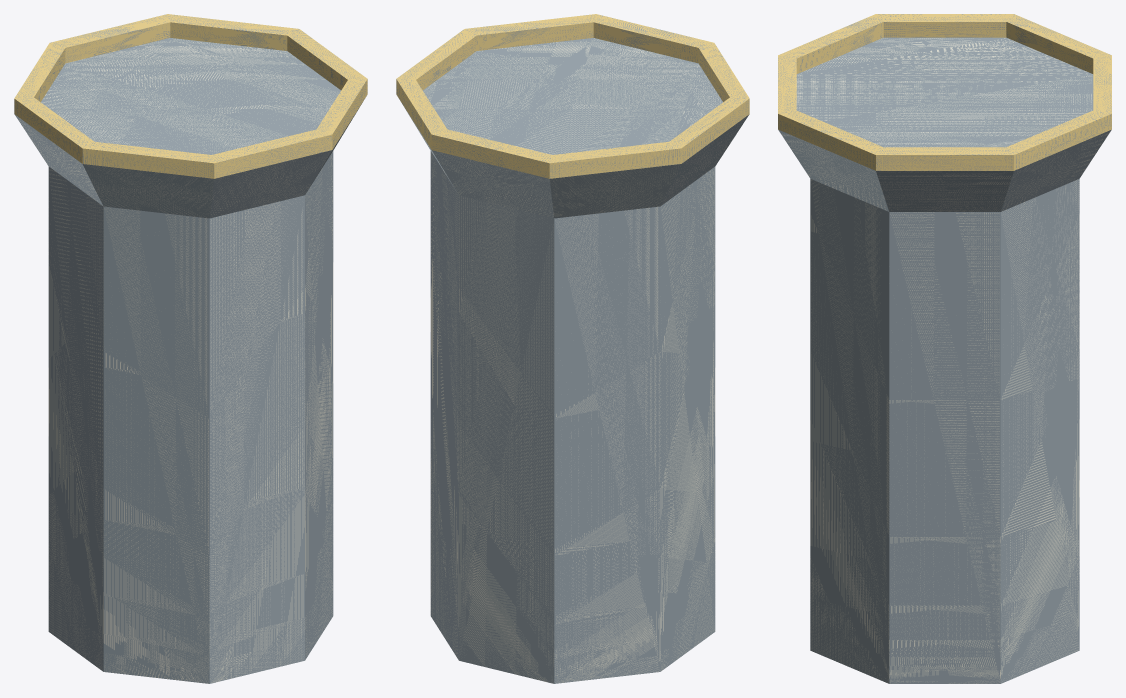
File: Castle_Pillar_Large_01.fbx
3 views of the same model, side by side, from view 1: azimuth 30°, elevation 25°; view 2: azimuth 150°, elevation 25°; view 3: azimuth 270°, elevation 25° (orthographic).
Visible parts, largest first — view 1: Model; view 2: Model; view 3: Model.
Boxes of the visible parts, x1=… form: Model: x1=14, y1=14, x2=367, y2=683; Model: x1=396, y1=14, x2=749, y2=683; Model: x1=778, y1=14, x2=1111, y2=683.
Bounding box in the file's own units: 1156 × 2073 × 1156.
